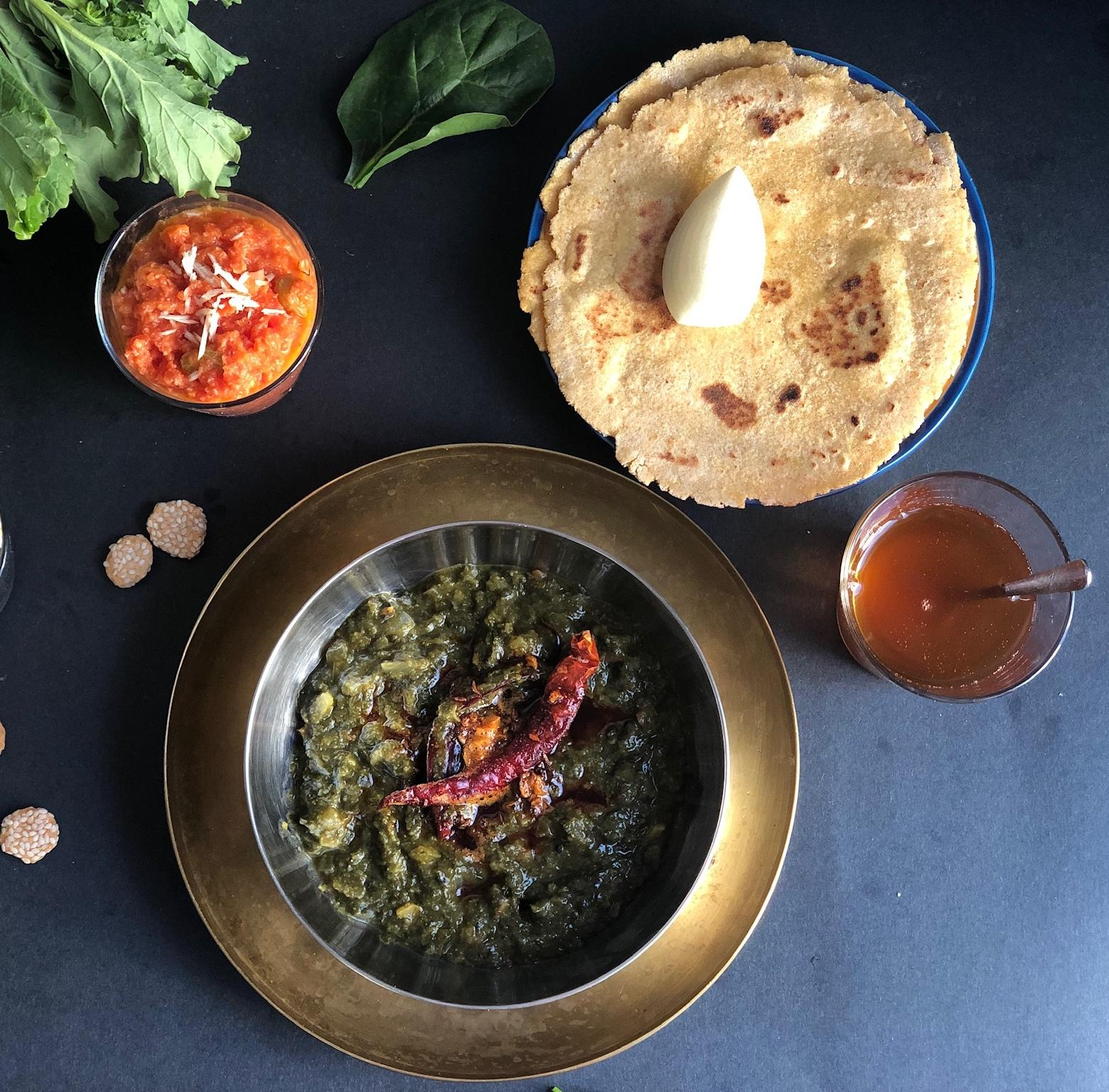saag: (296, 564, 684, 971)
